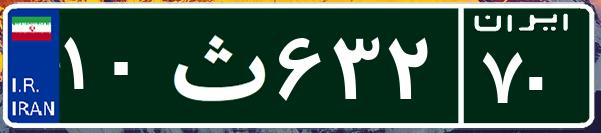0: (110, 28, 158, 105), (525, 38, 570, 115)
1: (57, 26, 110, 107)
2: (385, 28, 445, 110)
3: (330, 28, 385, 110)
6: (273, 28, 330, 110)
7: (475, 38, 525, 113)
ث: (158, 15, 273, 115)
